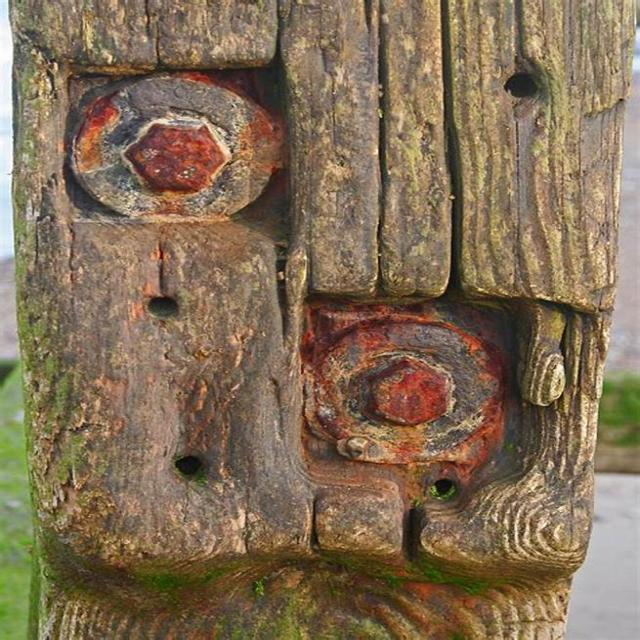bolt head: (126, 119, 228, 192), (367, 358, 452, 427)
